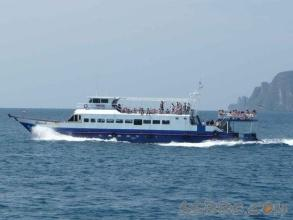yacht: (7, 77, 264, 144)
